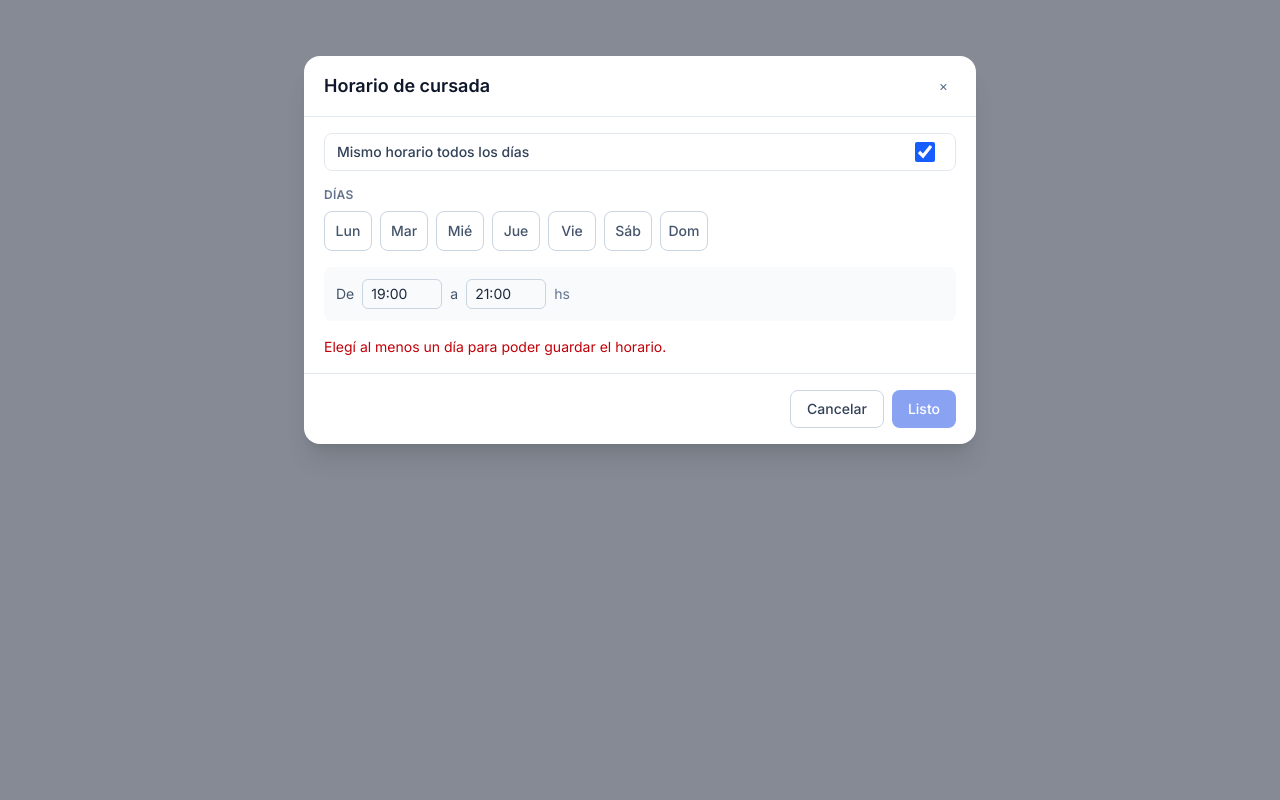
Test: modo mismo horario › restaura el valor anterior cuando el texto no se entiende
Replace the text in the 1st field named "Hora de inicio" with "a la tarde" at (402, 294), box [362,279,442,309]
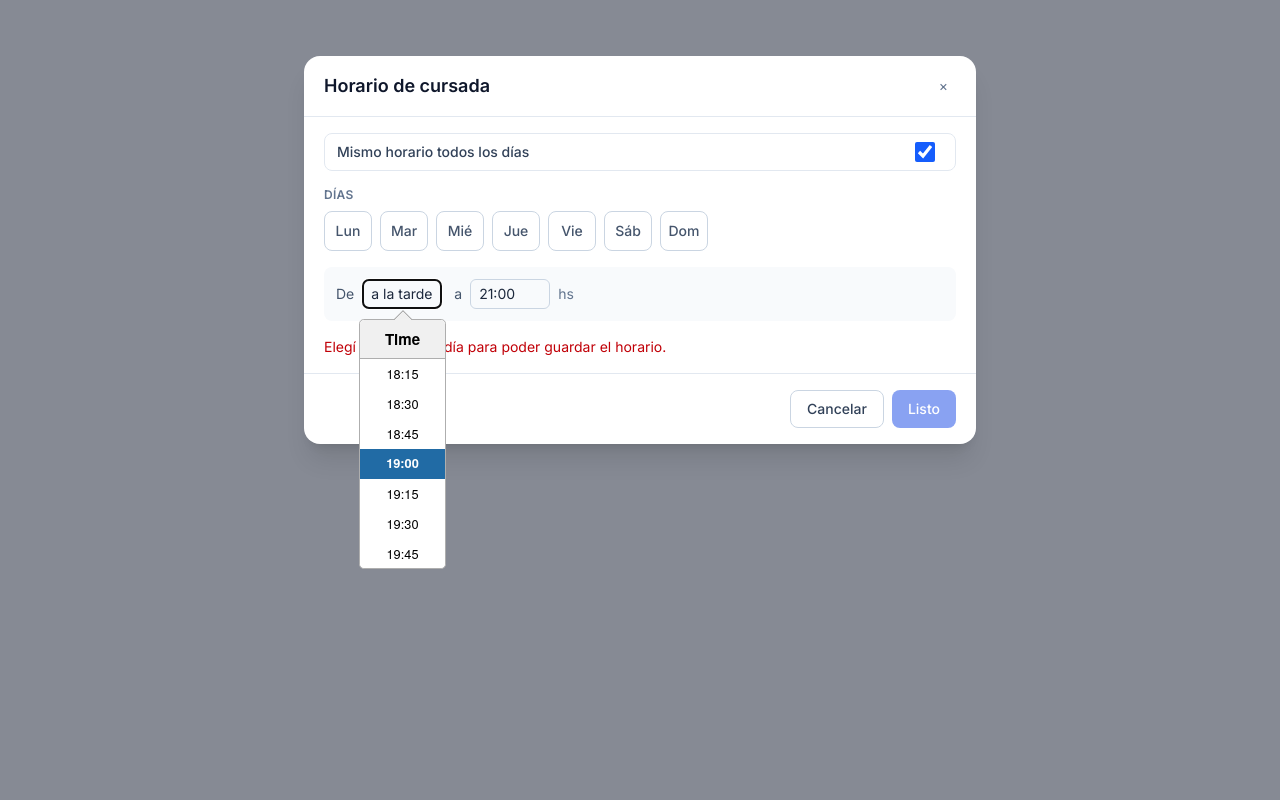
Press Tab
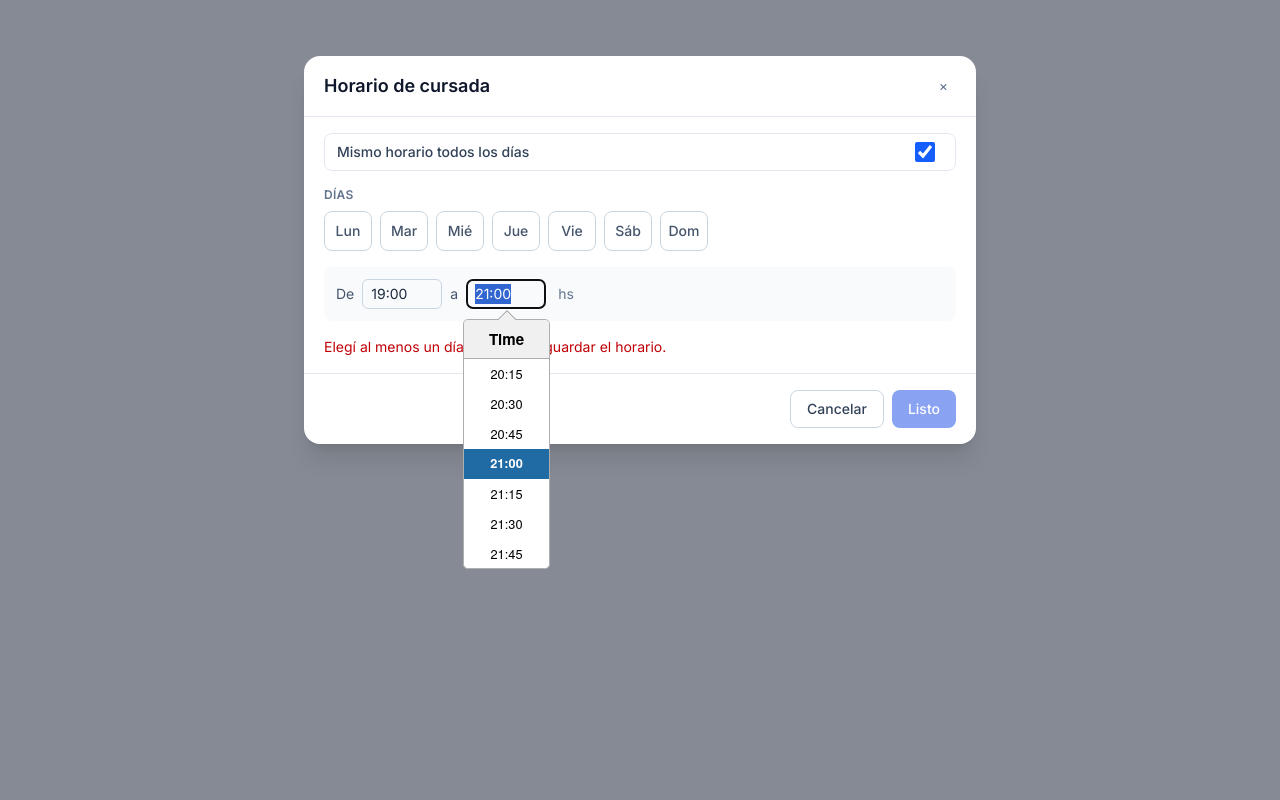
Now the 1st field named "Hora de inicio" holds "19:00", box [362,279,442,309]
